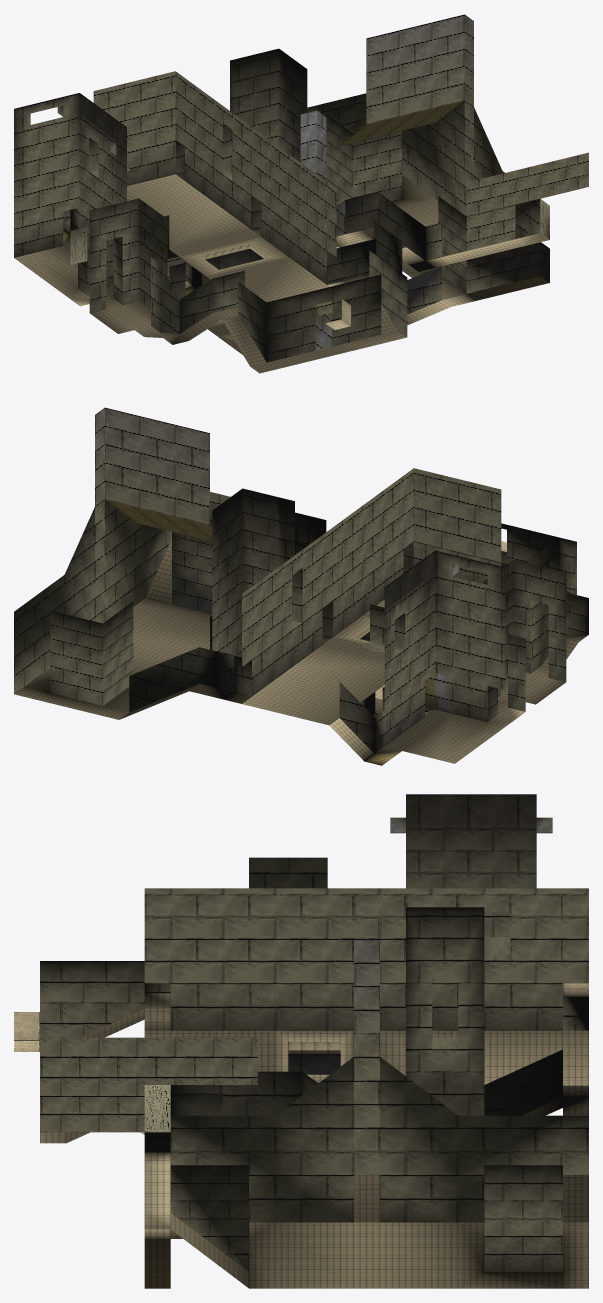
Rendered from TempleGE.glb.
3 renders of one model, top to bottom at view 1: azimuth 30°, elevation 25°; view 2: azimuth 150°, elevation 25°; view 3: azimuth 270°, elevation 25°, orthographic. The views are drawn at different scales.
Parts seen in each view (by area): view 1: TempleGE_0, TempleGE_1, TempleGE_2, TempleGE_3; view 2: TempleGE_0, TempleGE_1, TempleGE_2; view 3: TempleGE_0, TempleGE_1, TempleGE_2, TempleGE_3.
Part boxes in pixels (<box>): TempleGE_0: <box>14,14,588,362</box>; TempleGE_1: <box>14,172,549,373</box>; TempleGE_2: <box>325,100,463,329</box>; TempleGE_3: <box>70,199,549,264</box>; TempleGE_0: <box>14,407,588,753</box>; TempleGE_1: <box>14,539,588,765</box>; TempleGE_2: <box>105,499,576,604</box>; TempleGE_0: <box>40,794,588,1271</box>; TempleGE_1: <box>40,993,588,1288</box>; TempleGE_2: <box>14,983,588,1051</box>; TempleGE_3: <box>144,1085,170,1132</box>.
Size of the model in its own units: 496 by 230 by 404.
Materials: 4 (4 with a texture image).
